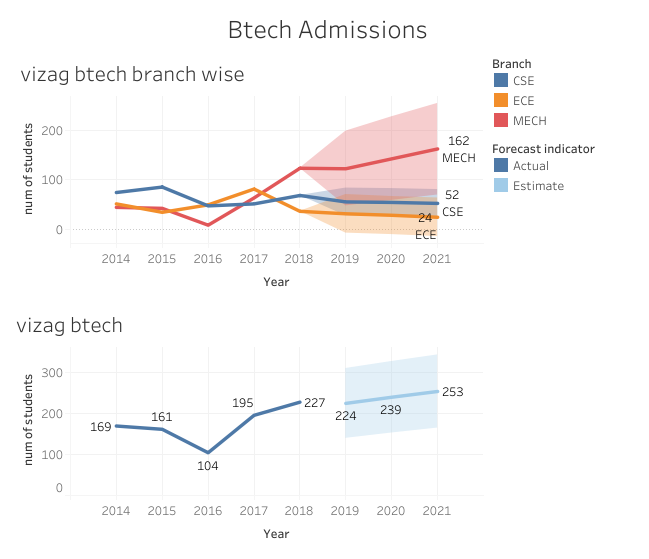

The dashboard page shown, as its layout file describes it:
{"tool":"tableau","page":{"name":"Dashboard 1","canvas":[650,860],"ordinal":0},"visuals":[{"type":"title","box":[8,11.4,634,59.9]},{"type":"worksheet","title":" vizag btech branch wise","mark":"Line","rows":["Id"],"cols":["Year"],"box":[8,71.3,479,388.6]},{"type":"legend","title":" vizag btech branch wise","param":"[federated.1di1ejk170nis910718621mnxrf3].[none:Branch:nk]","box":[487,71.3,155,122.7]},{"type":"legend","title":"vizag btech","param":"[federated.1di1ejk170nis910718621mnxrf3].[none:Forecast Indicator:nk]","box":[487,194,155,94.1]},{"type":"worksheet","title":"vizag btech","mark":"Line","rows":["Id"],"cols":["Year"],"box":[8,459.9,479,388.6]}]}

Visuals, with their boxes on the page's 650x860 design canvas (x1, y1, x2, y2). These are canvas units, not pixel positions in the 649x559 screenshot, which may show the page scaled, cropped or inside an application window:
title: Rect(8, 11, 642, 71)
" vizag btech branch wise" worksheet (Line marks): Rect(8, 71, 487, 460)
" vizag btech branch wise" legend: Rect(487, 71, 642, 194)
"vizag btech" legend: Rect(487, 194, 642, 288)
"vizag btech" worksheet (Line marks): Rect(8, 460, 487, 848)
